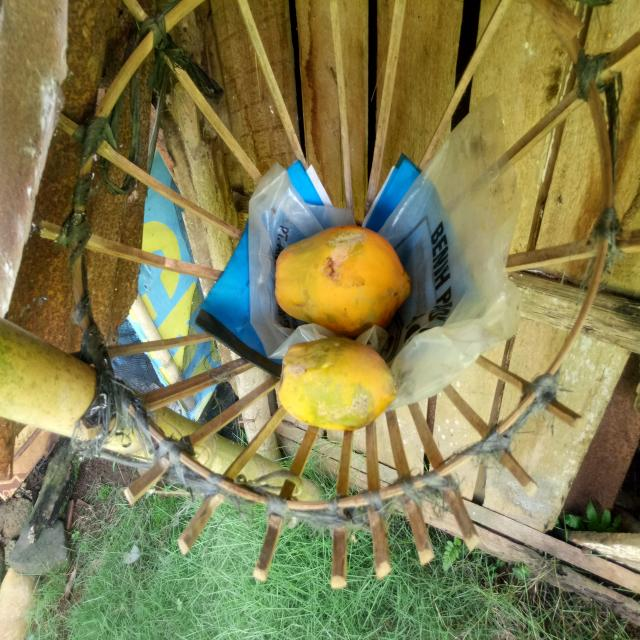Pepaya rippen: (269, 215, 417, 332), (258, 334, 408, 439)
